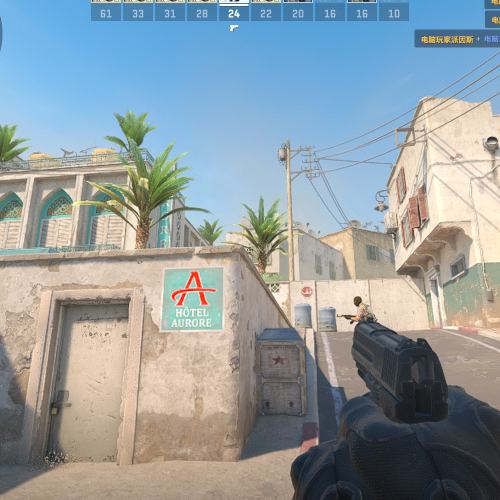t_head: (353, 296, 362, 307)
